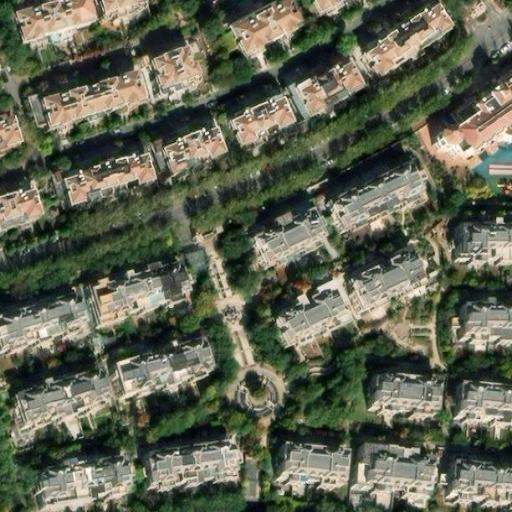building: (362, 2, 454, 80), (328, 157, 429, 226), (432, 75, 512, 161), (45, 65, 151, 129), (93, 257, 195, 320), (117, 335, 217, 394), (63, 147, 159, 206), (18, 368, 109, 424), (39, 451, 135, 504), (0, 290, 85, 349), (352, 245, 427, 305), (147, 439, 240, 486), (293, 59, 364, 118), (259, 206, 330, 261), (233, 0, 303, 54), (278, 287, 347, 341), (12, 0, 98, 42), (233, 92, 298, 146), (361, 440, 440, 482), (163, 123, 226, 175), (151, 42, 205, 93), (283, 440, 353, 477), (455, 459, 512, 502), (364, 373, 433, 408), (0, 183, 44, 231), (460, 379, 512, 418), (465, 301, 512, 334), (461, 222, 512, 252), (28, 90, 52, 124), (245, 451, 259, 497)
